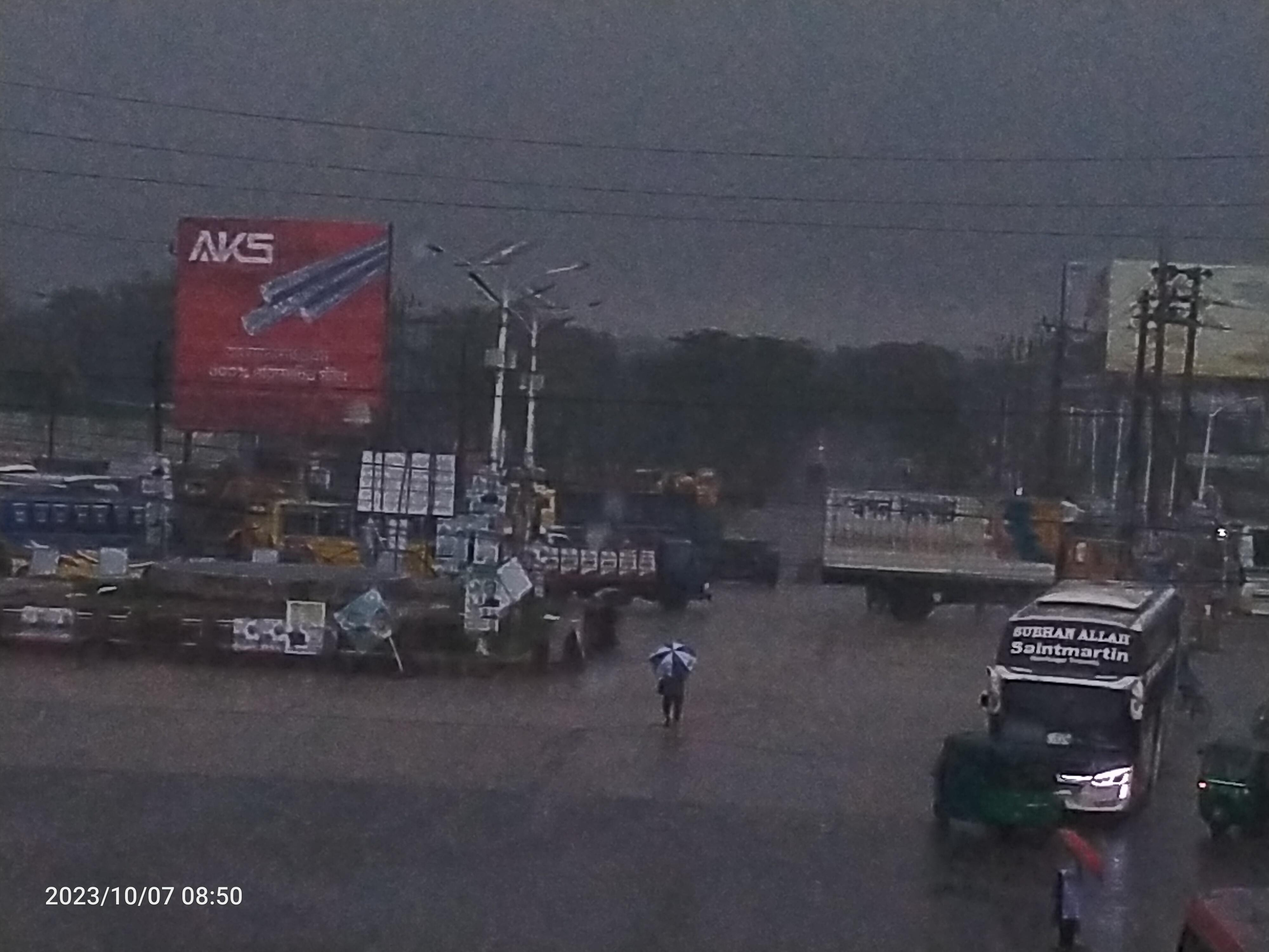Bus: (965, 533, 1192, 853), (0, 446, 245, 574), (251, 479, 435, 591)
Truck: (779, 452, 1174, 646)
